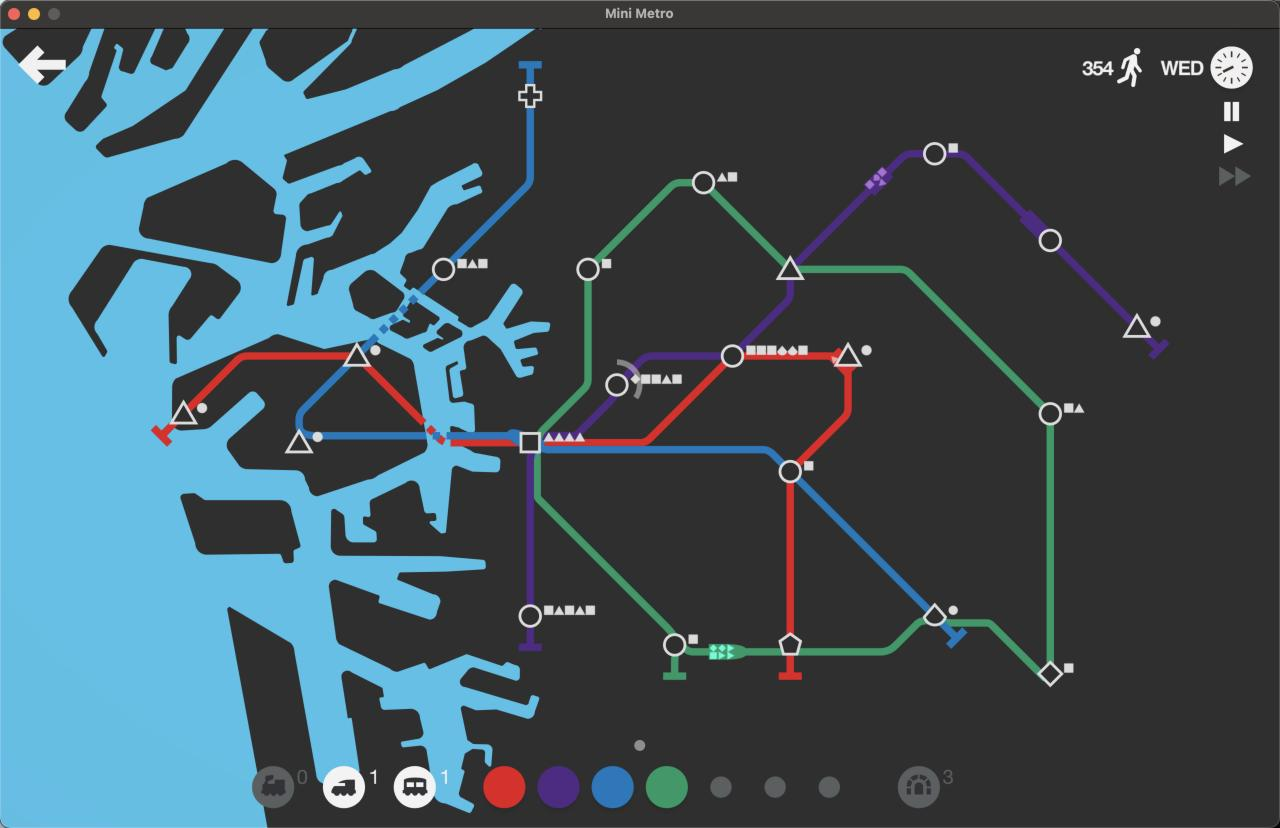CIRCLE: (517, 604, 543, 629), (662, 632, 687, 658), (432, 256, 456, 283), (778, 459, 803, 484), (923, 141, 947, 167), (576, 257, 600, 282), (605, 373, 629, 398), (720, 344, 745, 368), (692, 170, 716, 195), (1038, 228, 1062, 253), (1038, 401, 1062, 426)
CROSS: (519, 83, 544, 110)
GEM: (1039, 660, 1064, 689), (1063, 663, 1074, 673)
PENTAGON: (777, 632, 804, 659)
SQUARE: (520, 433, 541, 454)
TRIANGLE: (170, 398, 199, 427), (775, 254, 805, 282), (832, 342, 863, 368), (1122, 313, 1153, 339), (343, 343, 371, 370), (285, 430, 313, 455)
WEDGE: (923, 601, 948, 628)
